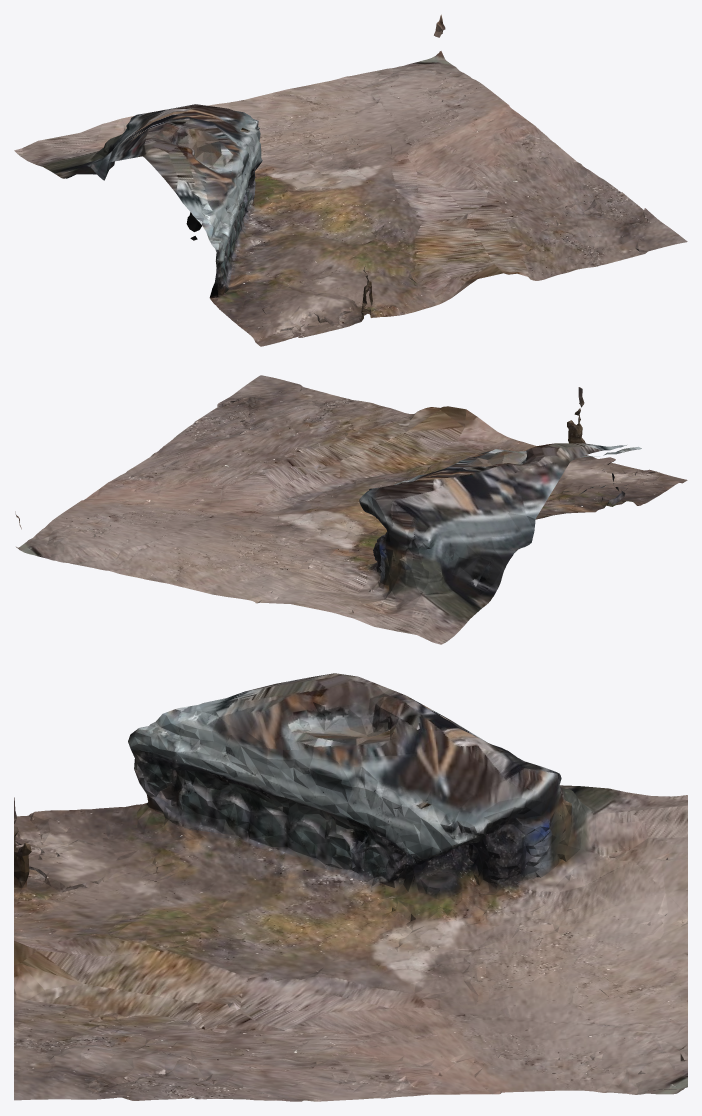
The picture shows the model from 3 angles, top to bottom: view 1: azimuth 30°, elevation 25°; view 2: azimuth 150°, elevation 25°; view 3: azimuth 270°, elevation 25°; orthographic projection. The views are drawn at different scales.
Bounding box in the file's own units: 10.44 × 2.62 × 10.44.
3 materials, 3 textured.
